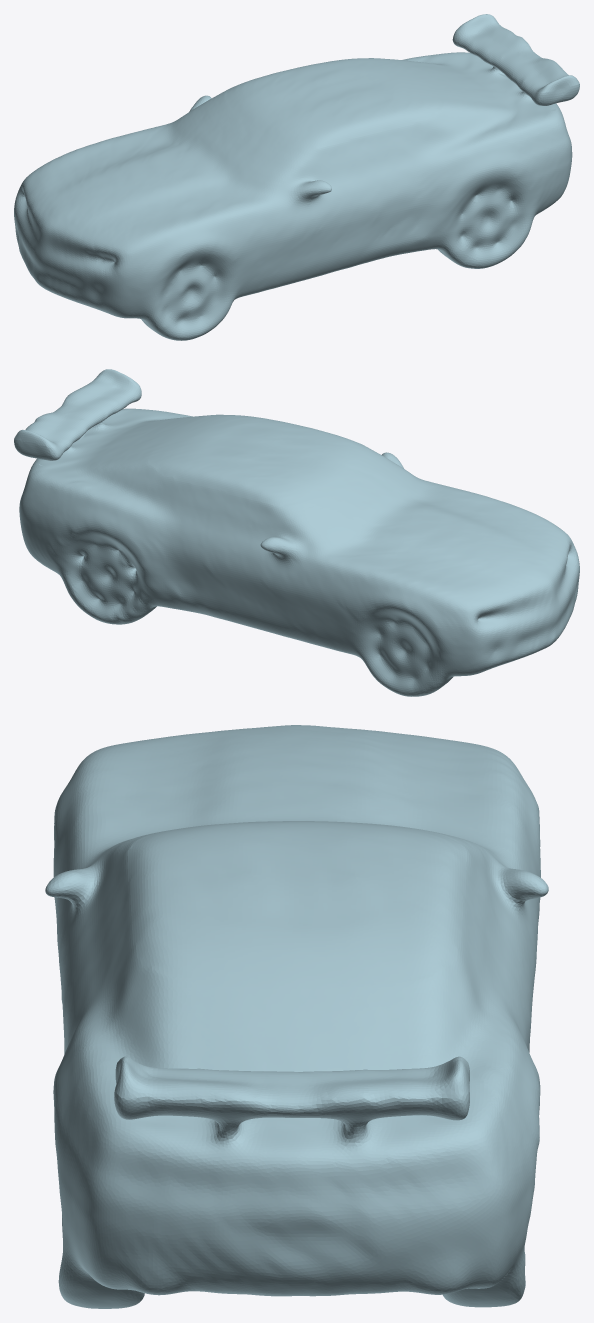
Rendered from car.glb.
3 renders of one model, top to bottom at view 1: azimuth 30°, elevation 25°; view 2: azimuth 150°, elevation 25°; view 3: azimuth 270°, elevation 25°, orthographic. The views are drawn at different scales.
Parts seen in each view (by area): view 1: car.obj; view 2: car.obj; view 3: car.obj.
Boxes of the visible parts, left/top/right/bottom form: car.obj: left=14, top=14, right=579, bottom=340; car.obj: left=14, top=369, right=579, bottom=696; car.obj: left=45, top=725, right=548, bottom=1308.
Size of the model in its own units: 1.02 by 0.3129 by 0.4399.
